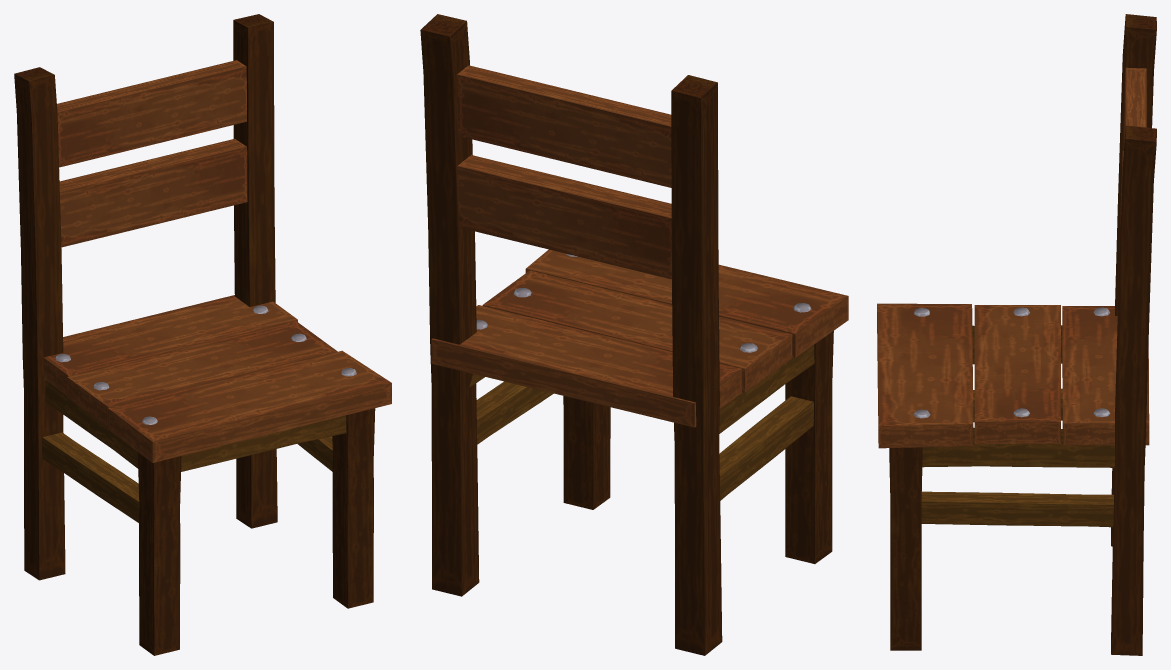
Rendered from Chair_1.glb.
3 views of the same model, side by side, from view 1: azimuth 30°, elevation 25°; view 2: azimuth 150°, elevation 25°; view 3: azimuth 270°, elevation 25° (orthographic). The views are drawn at different scales.
Visible parts, largest first — view 1: Chair_1; view 2: Chair_1; view 3: Chair_1.
Boxes of the visible parts, x1,y1,x2,y2 form: Chair_1: (14,14,391,655); Chair_1: (420,14,848,655); Chair_1: (877,14,1156,655).
Size of the model in its own units: 0.5805 by 1.12 by 0.5489.
2 materials, 2 textured.
